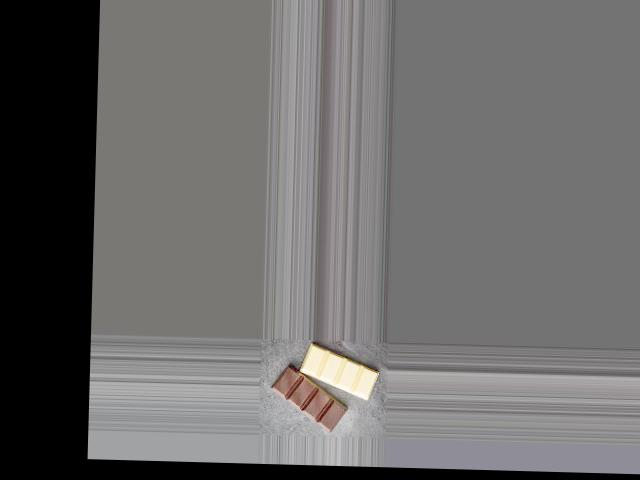chocolate: (270, 343, 384, 431)
